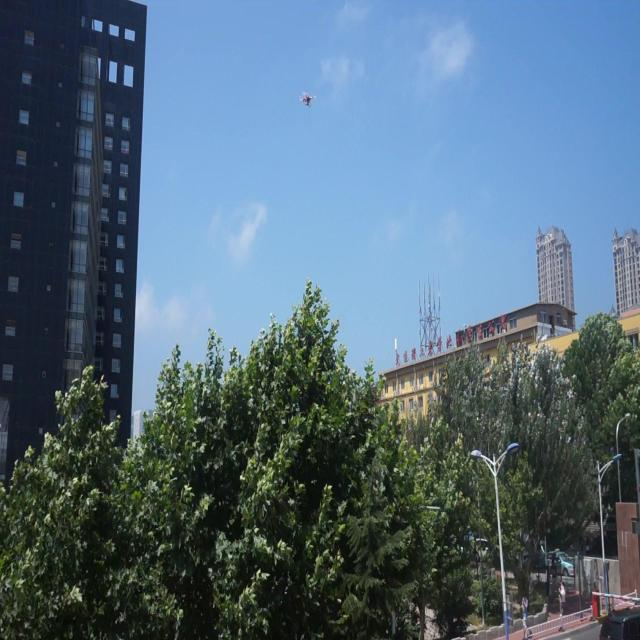drone: (298, 88, 316, 114)
